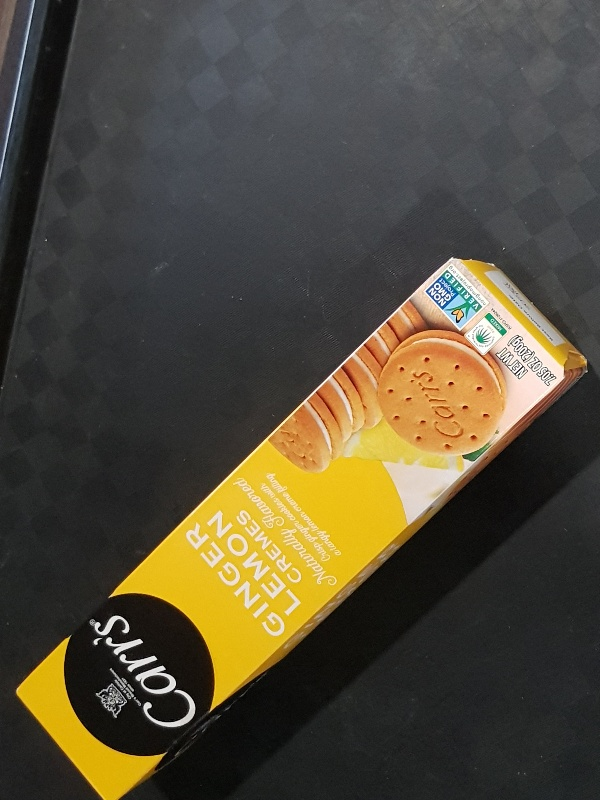Carr's Ginger Lemon Cremes: (15, 257, 590, 800)
